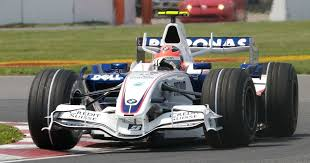FormulaOneCar: (28, 7, 300, 153)
